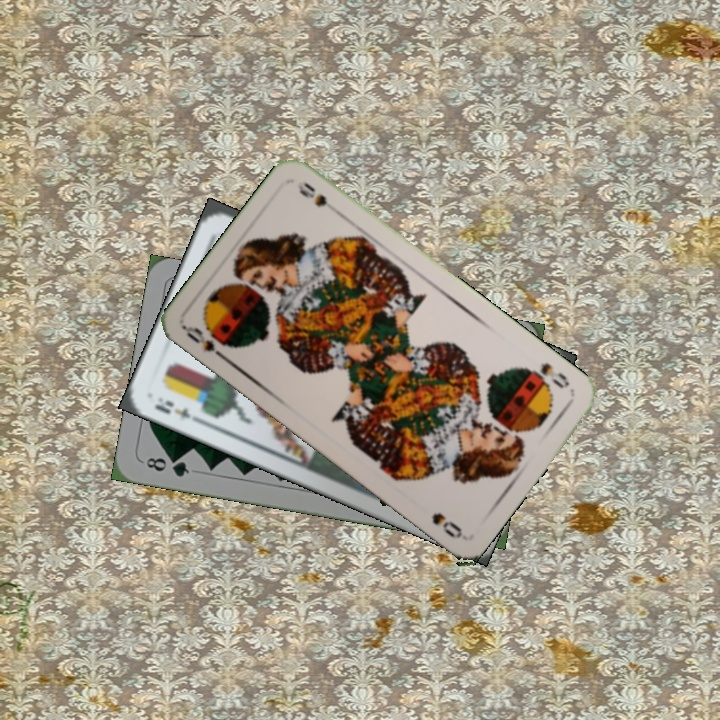EK: (149, 393, 205, 427)
G8: (142, 453, 192, 480)
SO: (182, 322, 232, 366), (521, 358, 572, 392)
